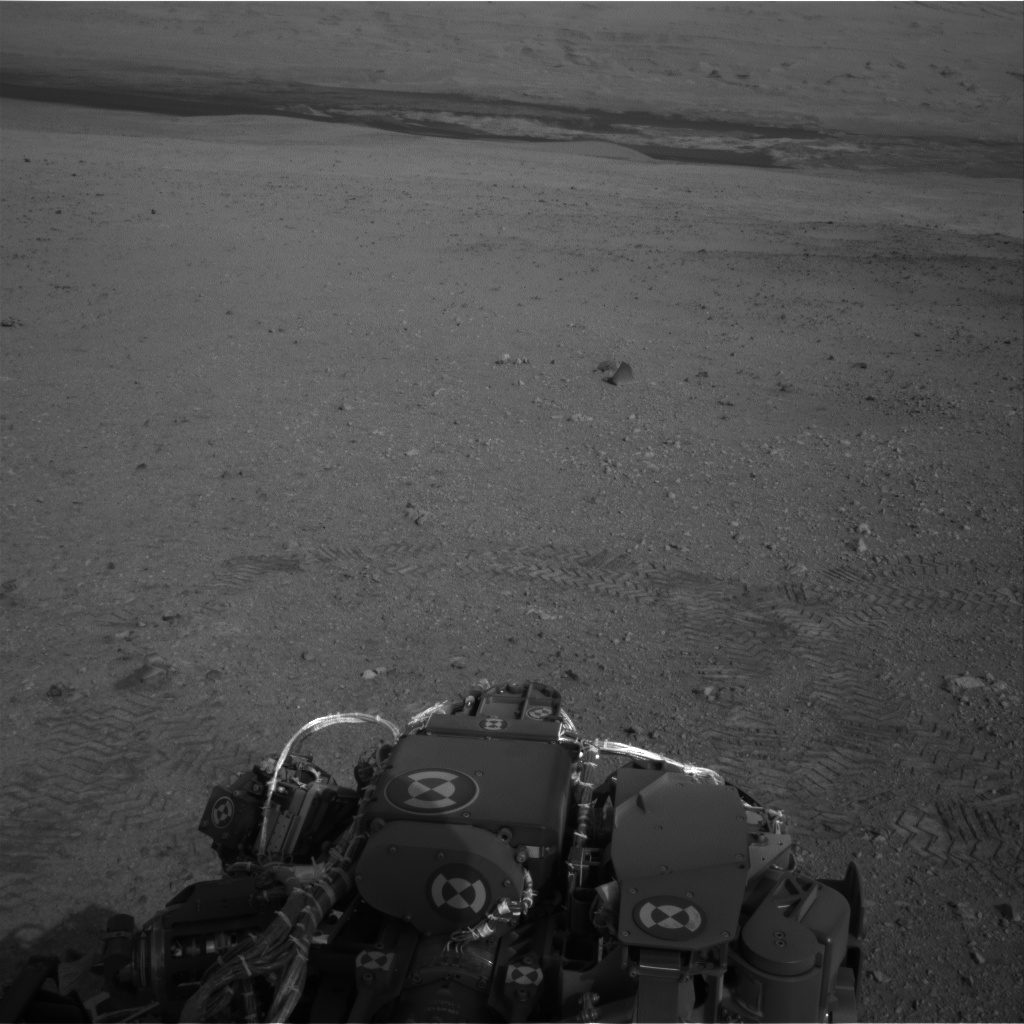soil: (11, 265, 1013, 908), (1011, 999, 1012, 1008)
